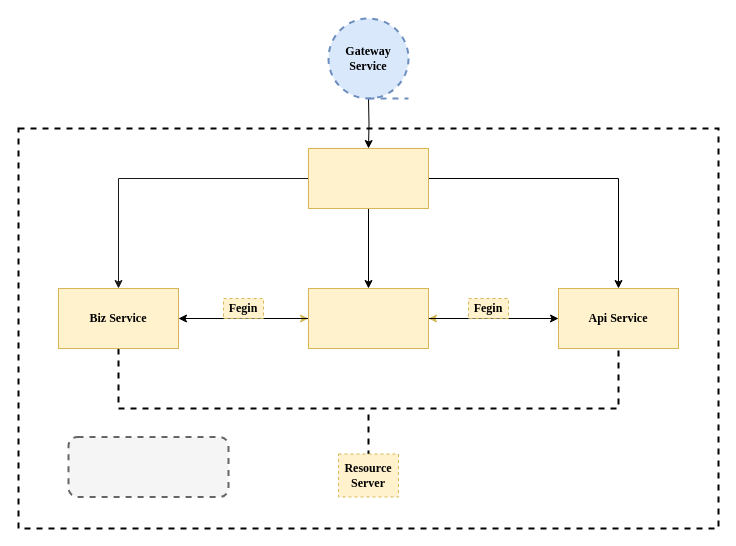
Some shapes in this 736 by 546 pixel diagram are drawn without their labels. Here are the shapes that lost their labels. From the top down, the centre of each, then its label:
point 368,178: Auth Service
point 368,318: Common Service
point 148,467: Spring Security OAUTH2
